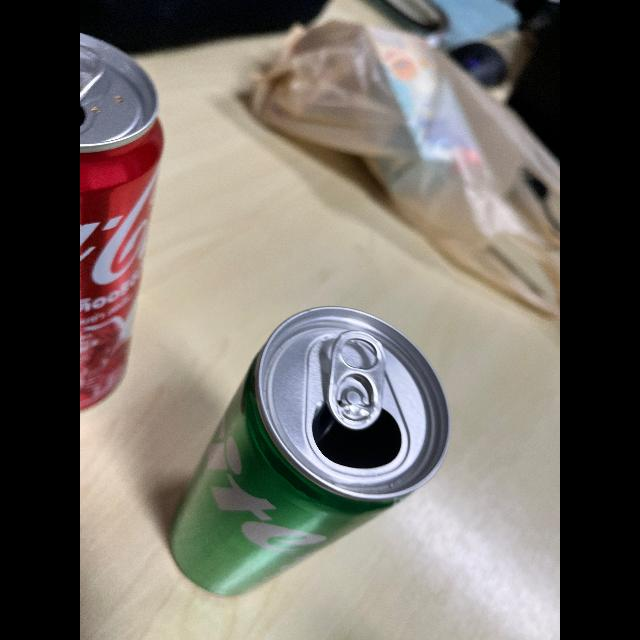can: (158, 306, 450, 592), (80, 33, 164, 409)
